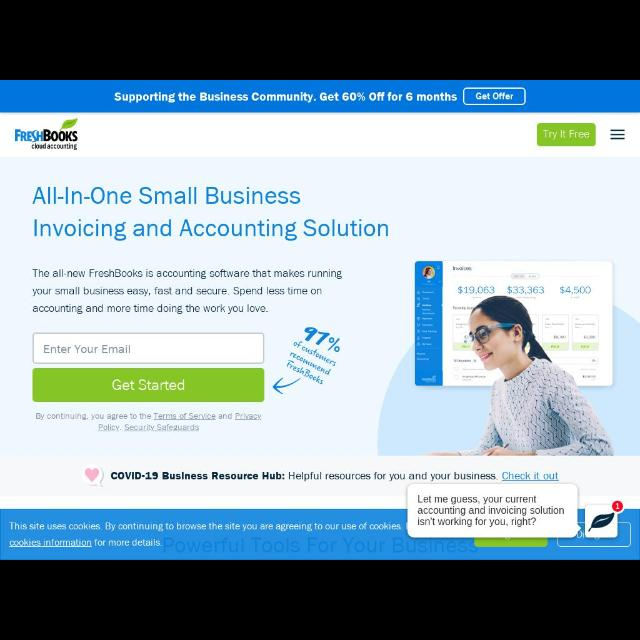button: (586, 504, 618, 538)
icon: (588, 510, 616, 532), (608, 125, 628, 143)
image: (377, 255, 639, 455), (270, 322, 346, 402), (8, 118, 82, 152), (82, 466, 104, 486)
input: (32, 330, 266, 364)
link: (124, 422, 200, 432), (502, 471, 562, 482), (154, 412, 218, 422), (10, 540, 92, 546), (234, 412, 262, 421), (98, 424, 120, 431)
text: (30, 180, 392, 240), (28, 266, 346, 318), (34, 410, 266, 438), (112, 88, 458, 104), (111, 470, 567, 482), (417, 492, 568, 528), (9, 520, 405, 532), (9, 536, 164, 548), (43, 342, 133, 356), (110, 376, 188, 392), (544, 128, 590, 142), (475, 91, 517, 99)
textbutton: (32, 368, 266, 402), (536, 122, 596, 146), (462, 85, 526, 107)
